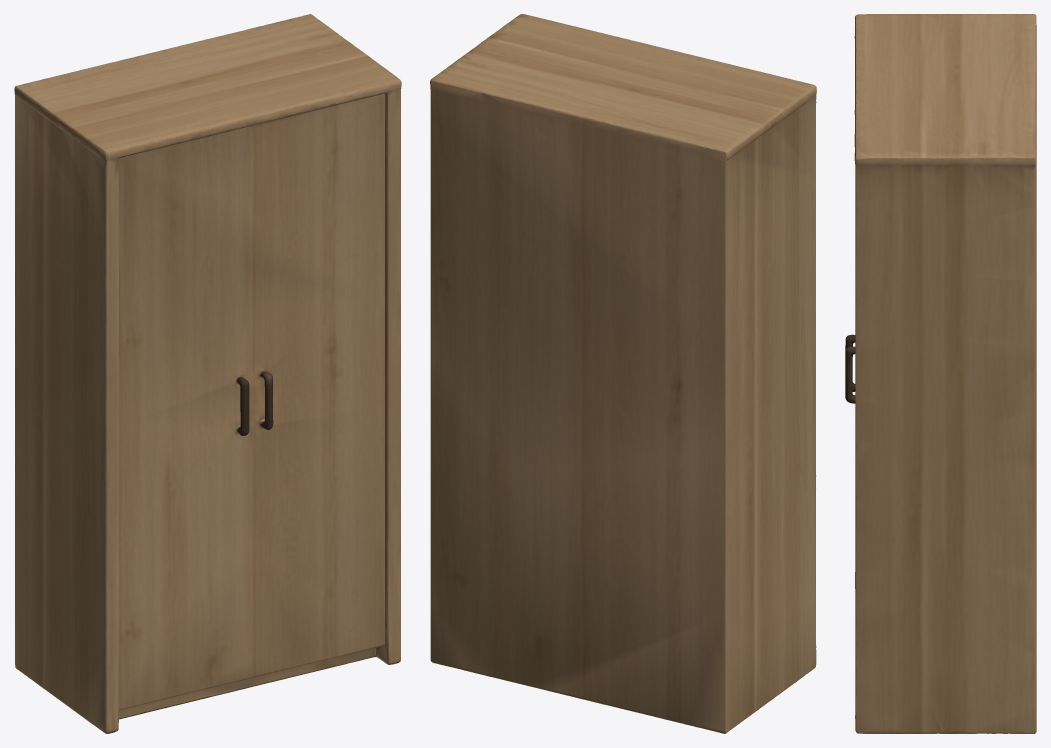
File: wardrobe.glb
3 renders of one model, left to right at view 1: azimuth 30°, elevation 25°; view 2: azimuth 150°, elevation 25°; view 3: azimuth 270°, elevation 25°, orthographic.
Parts seen in each view (by area): view 1: world; view 2: world; view 3: world.
Part boxes in pixels (x1,y1,x2,y2): world: (14, 14, 401, 733); world: (430, 14, 816, 733); world: (845, 14, 1036, 733).
Bounding box in the file's own units: 1.07 × 2 × 0.5992.
Materials: 1 (1 with a texture image).
